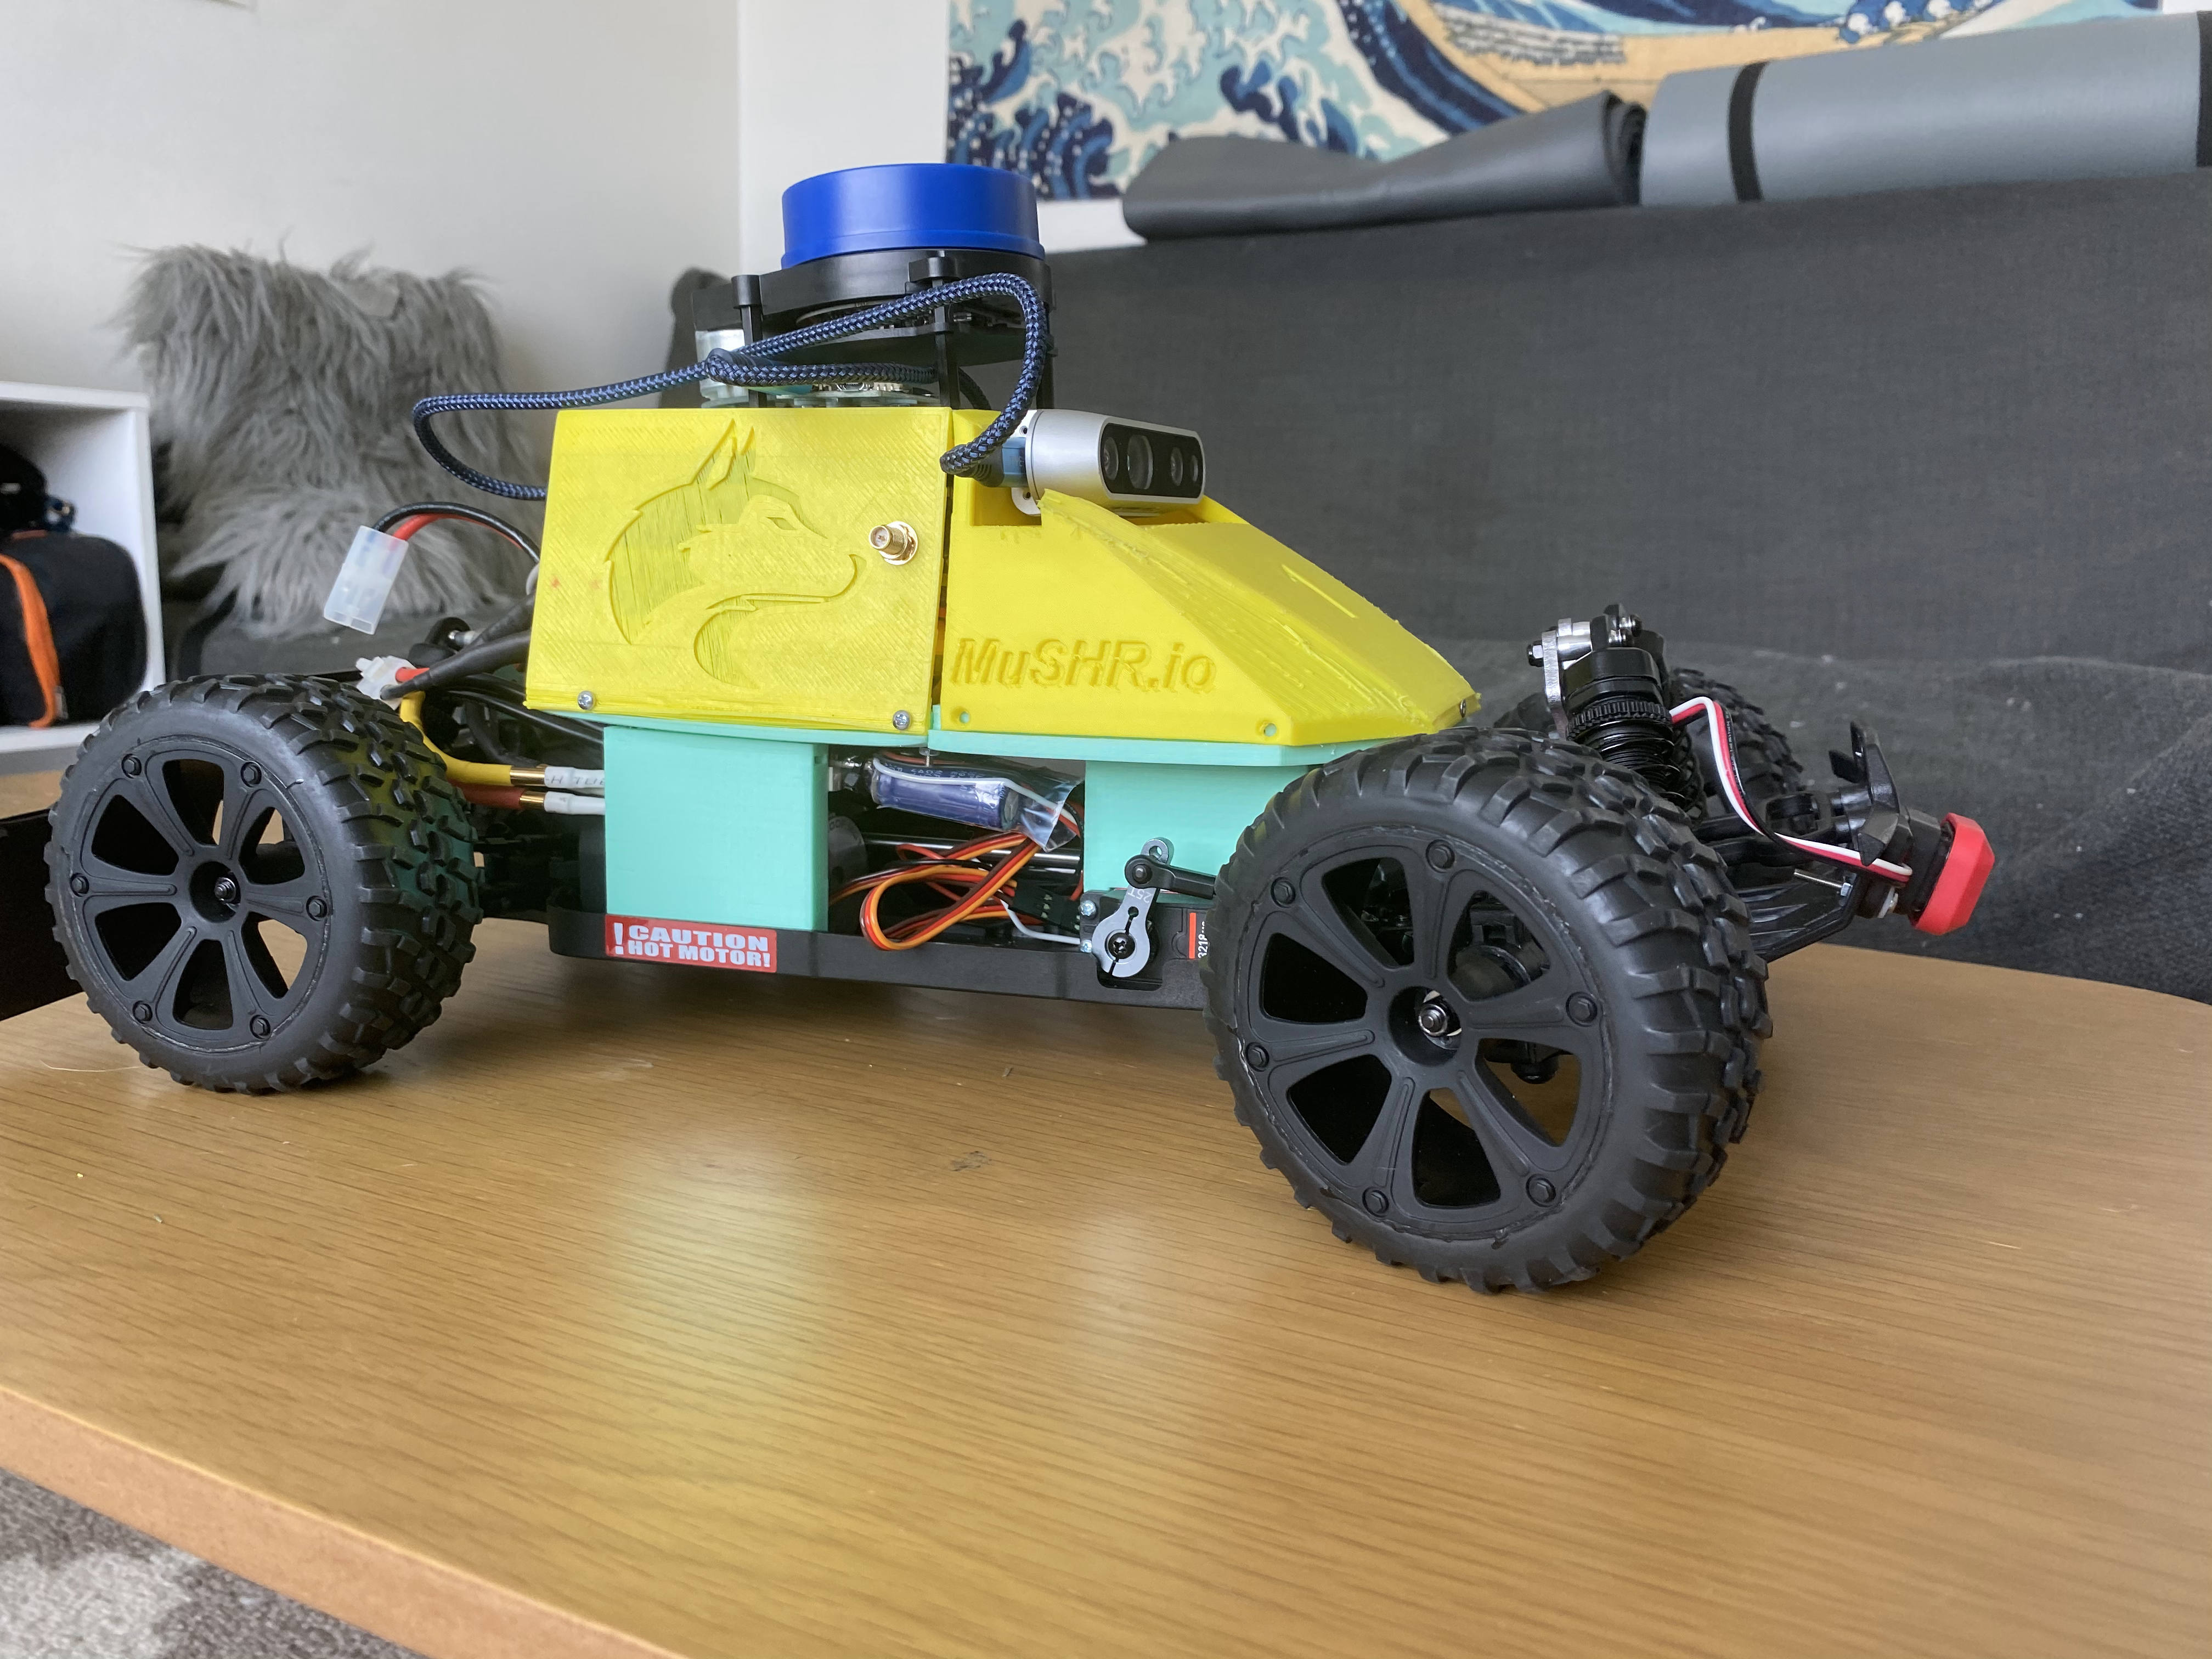mushr_car: (24, 157, 1998, 1309)
